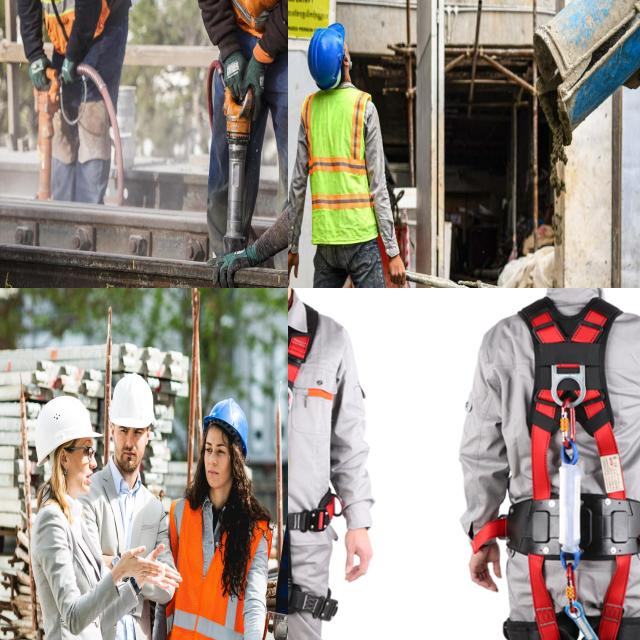Harness: (516, 294, 640, 640), (288, 301, 346, 612)
No_Ear-Protection: (55, 446, 72, 471), (144, 424, 152, 447), (109, 421, 117, 442)
No_Glasses: (201, 438, 231, 460), (115, 423, 146, 440)
face_nomask: (57, 434, 92, 500), (198, 426, 233, 486), (111, 424, 151, 473)
glasses: (81, 442, 97, 462)
hand_glove: (215, 229, 262, 288), (222, 48, 249, 110), (244, 55, 269, 120), (22, 49, 52, 96), (56, 50, 84, 91)
hand_noglove: (146, 536, 186, 604), (113, 542, 163, 592), (385, 255, 414, 288), (288, 249, 303, 288)
head_helmet: (34, 395, 104, 467), (202, 398, 249, 457), (306, 22, 347, 89), (108, 372, 156, 429)
person: (288, 21, 403, 288), (0, 0, 132, 209), (186, 0, 288, 253), (169, 391, 265, 640), (94, 364, 173, 640), (24, 376, 102, 640)
vest: (165, 492, 252, 640), (303, 86, 378, 244), (32, 0, 129, 48)
